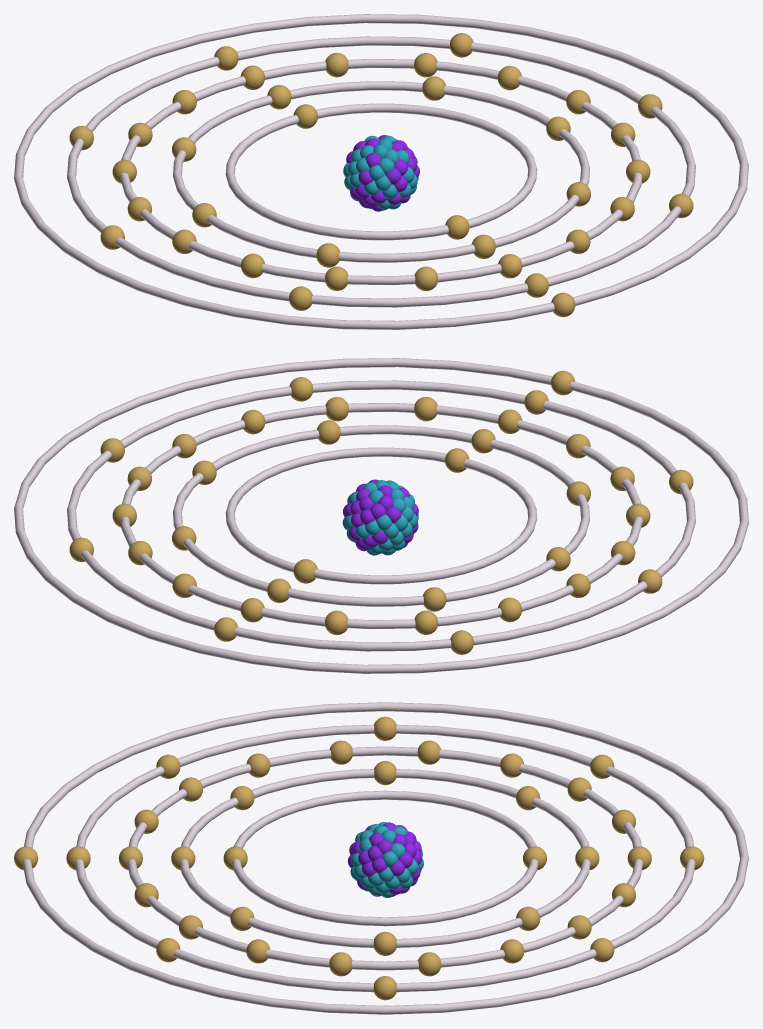
The model's file is rubidio.glb.
3 views of the same model, one above another, from view 1: azimuth 30°, elevation 25°; view 2: azimuth 150°, elevation 25°; view 3: azimuth 270°, elevation 25° (orthographic).
Parts seen in each view (by area): view 1: Orbita_5, Orbita_4, Orbita_3, Orbita_2, Orbita_1, Nucleo_Completo; view 2: Orbita_5, Orbita_4, Orbita_3, Orbita_2, Orbita_1, Nucleo_Completo; view 3: Orbita_5, Orbita_4, Orbita_3, Orbita_2, Orbita_1, Nucleo_Completo.
Boxes of the visible parts, bbox=[...] form: Orbita_5: bbox=[14, 14, 748, 329]; Orbita_4: bbox=[67, 36, 695, 307]; Orbita_3: bbox=[120, 58, 642, 285]; Orbita_2: bbox=[173, 81, 589, 262]; Orbita_1: bbox=[225, 103, 537, 240]; Nucleo_Completo: bbox=[343, 135, 419, 211]; Orbita_5: bbox=[14, 358, 748, 673]; Orbita_4: bbox=[67, 380, 695, 651]; Orbita_3: bbox=[120, 402, 642, 629]; Orbita_2: bbox=[173, 425, 589, 606]; Orbita_1: bbox=[225, 447, 537, 584]; Nucleo_Completo: bbox=[342, 479, 418, 555]; Orbita_5: bbox=[22, 702, 748, 1014]; Orbita_4: bbox=[75, 724, 695, 992]; Orbita_3: bbox=[127, 746, 643, 970]; Orbita_2: bbox=[179, 769, 590, 947]; Orbita_1: bbox=[232, 790, 538, 926]; Nucleo_Completo: bbox=[347, 822, 423, 897].
Bounding box in the file's own units: 4.86 × 0.5073 × 4.91.
